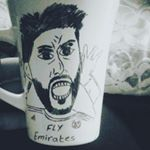cups: (1, 1, 124, 149)
